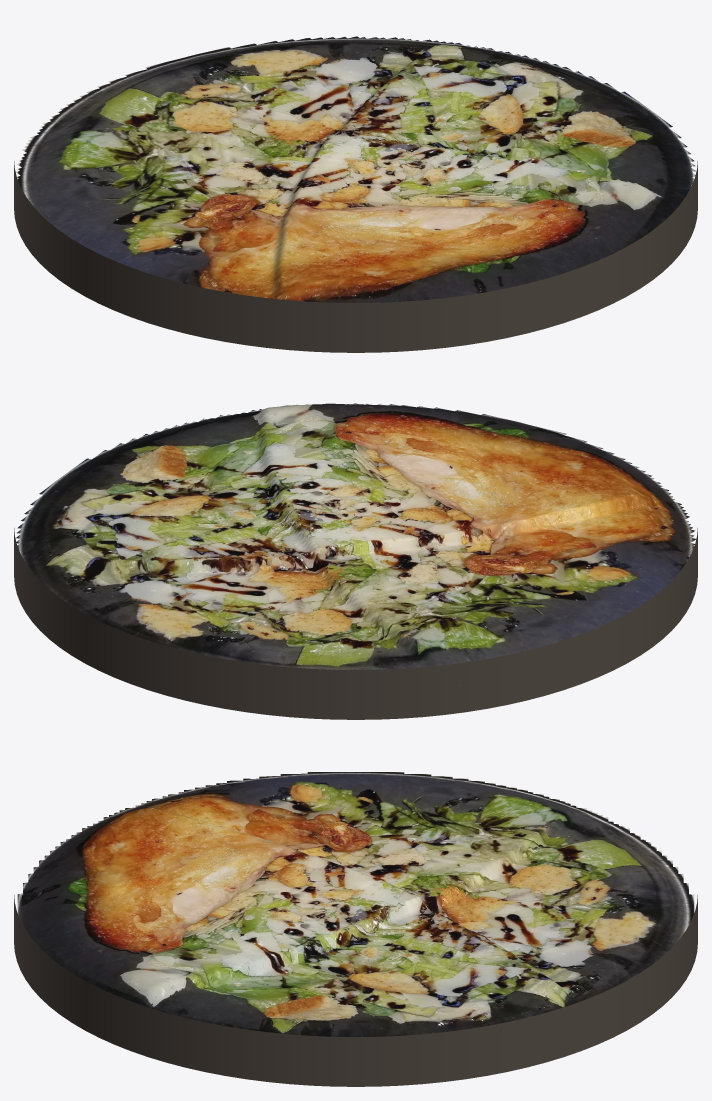
Rendered from plato.glb.
3 renders of one model, top to bottom at view 1: azimuth 30°, elevation 25°; view 2: azimuth 150°, elevation 25°; view 3: azimuth 270°, elevation 25°, orthographic.
Bounding box in the file's own units: 0.2985 × 0.024 × 0.2985.
Materials: 2 (1 with a texture image).
